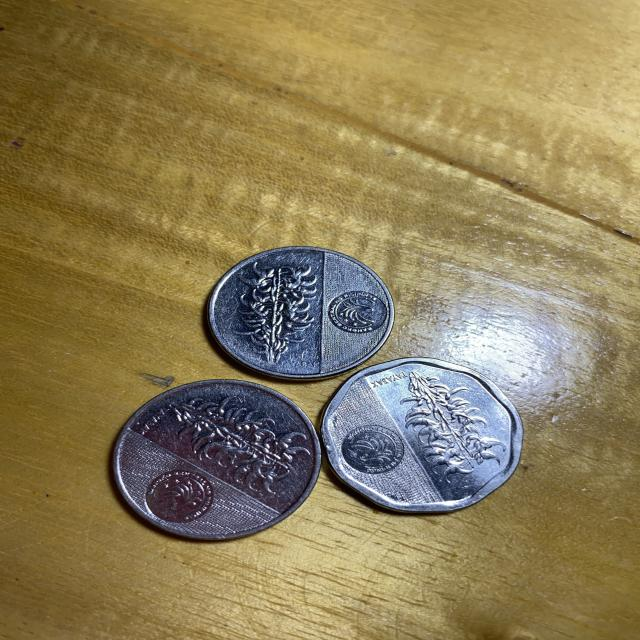5_New_Back: (164, 391, 293, 486), (394, 371, 496, 477), (236, 261, 325, 362)
